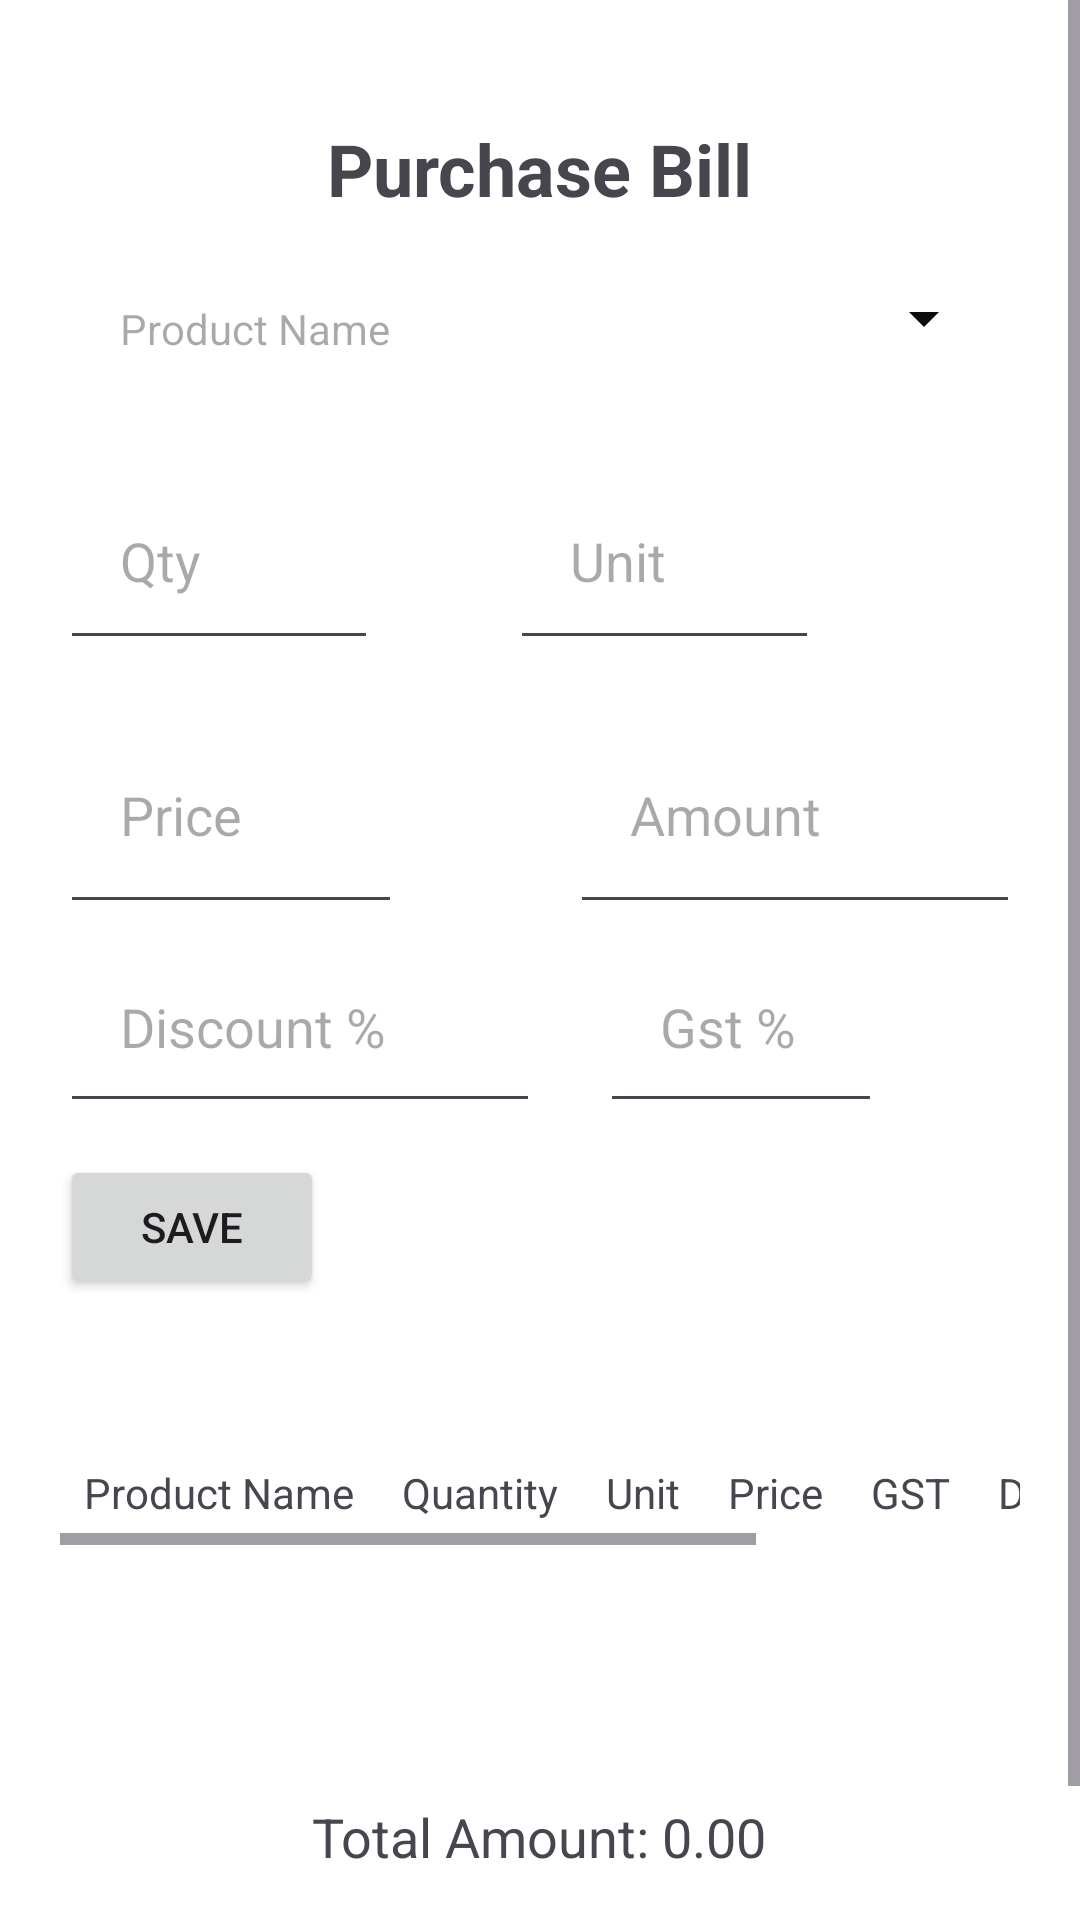

Locate icon controls on the screen. Image size 1080px×1920px, boxes as (x1, y1, x2, y2).
drop: (909, 312, 939, 327)
